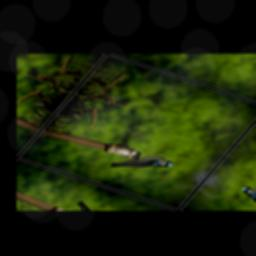Swallow: (106, 145, 176, 183)
